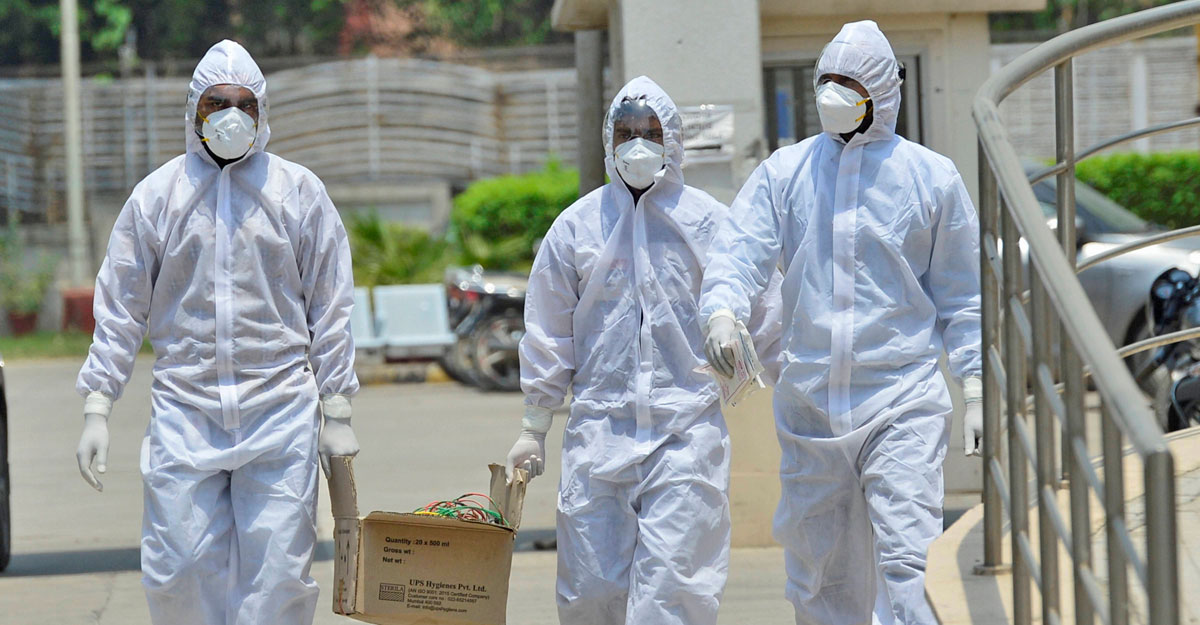Coverall: (733, 22, 1001, 625), (104, 32, 358, 625), (525, 68, 753, 623)
Gloves: (312, 384, 364, 487), (71, 400, 120, 495), (705, 306, 759, 385), (505, 419, 551, 499), (958, 393, 986, 461)
with_mask: (197, 94, 258, 161), (609, 121, 666, 190), (817, 78, 871, 143)
